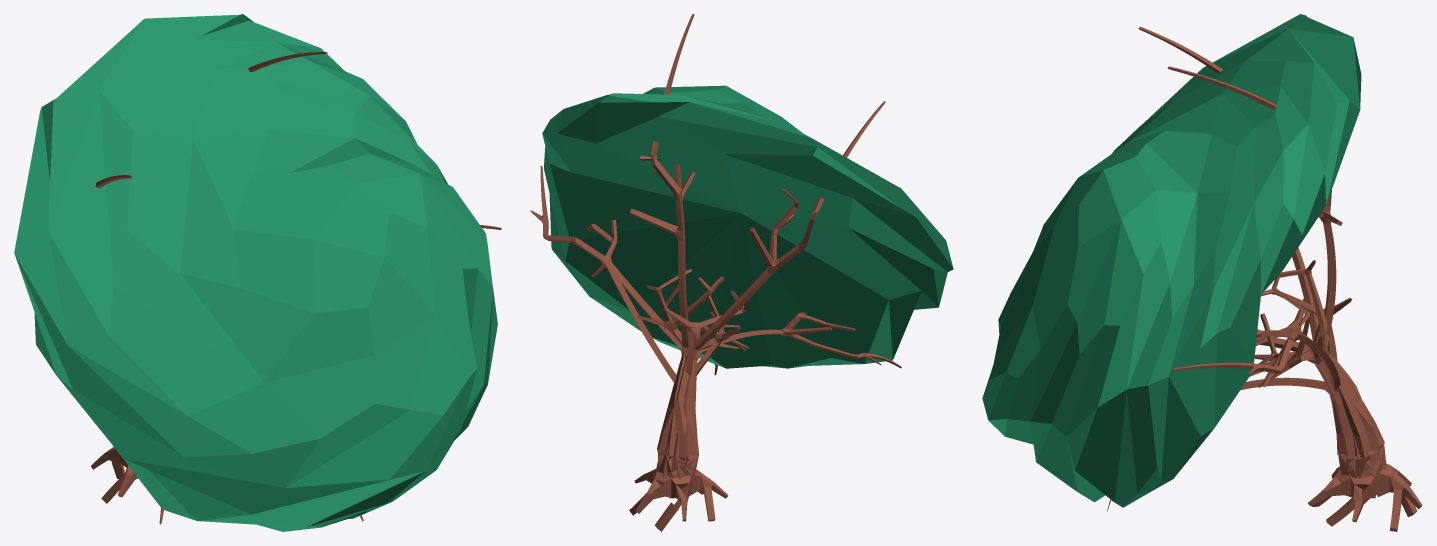
File: tree2.fbx
3 views of the same model, side by side, from view 1: azimuth 30°, elevation 25°; view 2: azimuth 150°, elevation 25°; view 3: azimuth 270°, elevation 25° (orthographic). The views are drawn at different scales.
Parts seen in each view (by area): view 1: Icosphere, Plane; view 2: Icosphere, Plane; view 3: Icosphere, Plane.
Boxes of the visible parts, <box> form: Icosphere: <box>14,14,497,531</box>; Plane: <box>91,52,501,524</box>; Icosphere: <box>542,85,953,368</box>; Plane: <box>530,14,901,531</box>; Icosphere: <box>982,14,1361,507</box>; Plane: <box>1107,26,1422,531</box>.
Bounding box in the file's own units: 78.73 × 80.5 × 65.52.
